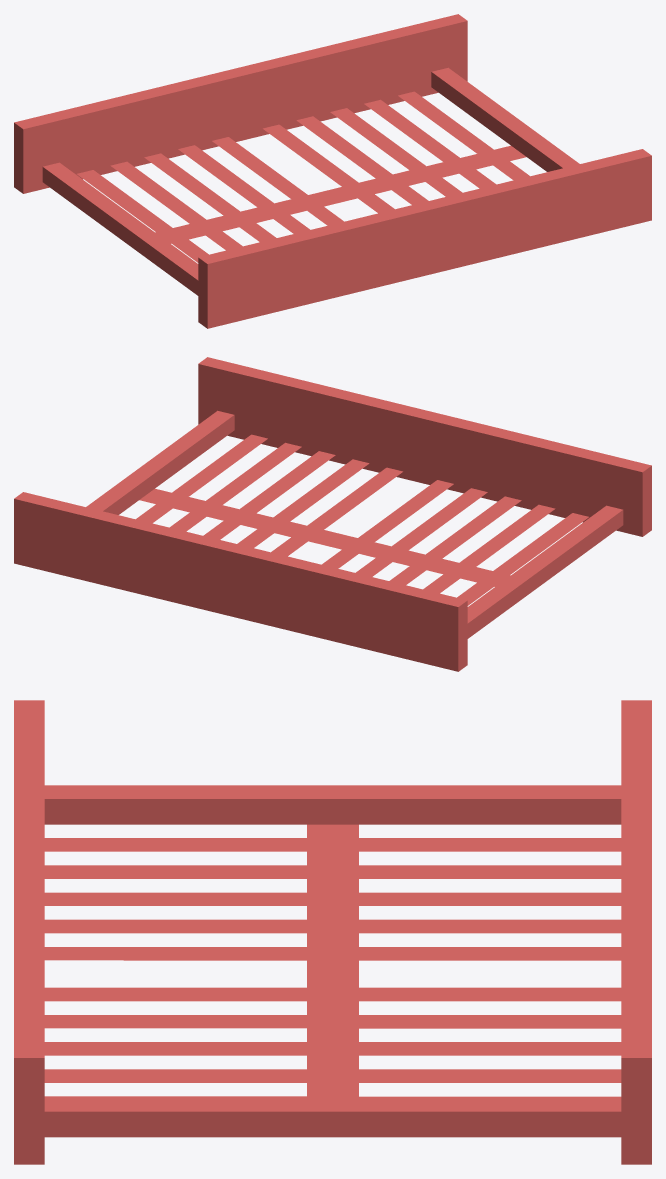
The model's file is SM_PROP_GRID_VENT_02.fbx.
3 views of the same model, one above another, from view 1: azimuth 30°, elevation 25°; view 2: azimuth 150°, elevation 25°; view 3: azimuth 270°, elevation 25° (orthographic). The views are drawn at different scales.
Visible parts, largest first — view 1: SM_PROP_GRID_VENT_02; view 2: SM_PROP_GRID_VENT_02; view 3: SM_PROP_GRID_VENT_02.
Part boxes in pixels (<box>): SM_PROP_GRID_VENT_02: <box>14,14,651,328</box>; SM_PROP_GRID_VENT_02: <box>14,357,651,671</box>; SM_PROP_GRID_VENT_02: <box>14,700,651,1164</box>.
Bounding box in the file's own units: 1.5 × 0.209 × 1.13.
